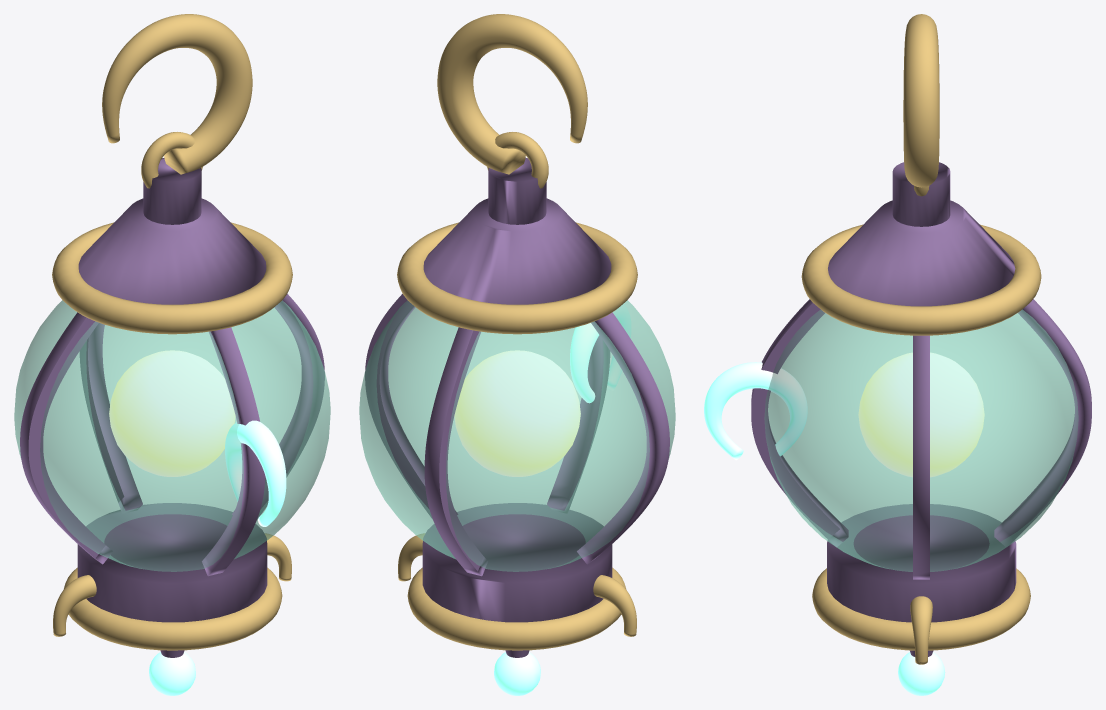
The model's file is a-hanging-moon-market-lantern-for-a-whimsical.glb.
3 renders of one model, left to right at view 1: azimuth 30°, elevation 25°; view 2: azimuth 150°, elevation 25°; view 3: azimuth 270°, elevation 25°, orthographic.
Parts seen in each view (by area): view 1: LanternFrame, glass_globe, glow_core, hanging_hook; view 2: LanternFrame, glass_globe, glow_core, hanging_hook; view 3: LanternFrame, glass_globe, glow_core, hanging_hook.
Boxes of the visible parts, x1,y1,x2,y2 form: LanternFrame: (20,132,324,695); glass_globe: (14,300,330,571); glow_core: (109,350,235,476); hanging_hook: (102,14,252,174); LanternFrame: (365,132,669,695); glass_globe: (359,300,675,571); glow_core: (454,350,580,476); hanging_hook: (437,14,587,174); LanternFrame: (704,162,1091,695); glass_globe: (764,309,1078,571); glow_core: (858,352,984,477); hanging_hook: (903,14,939,187).
Size of the model in its own units: 0.9176 by 2 by 1.04.
